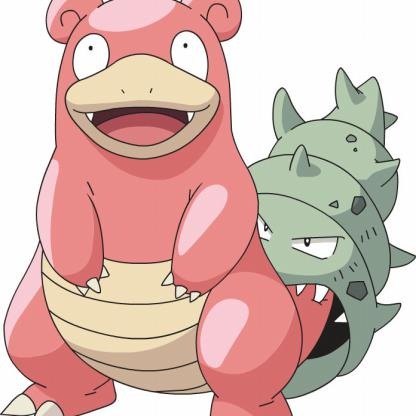Slowbro: (1, 1, 416, 416)
